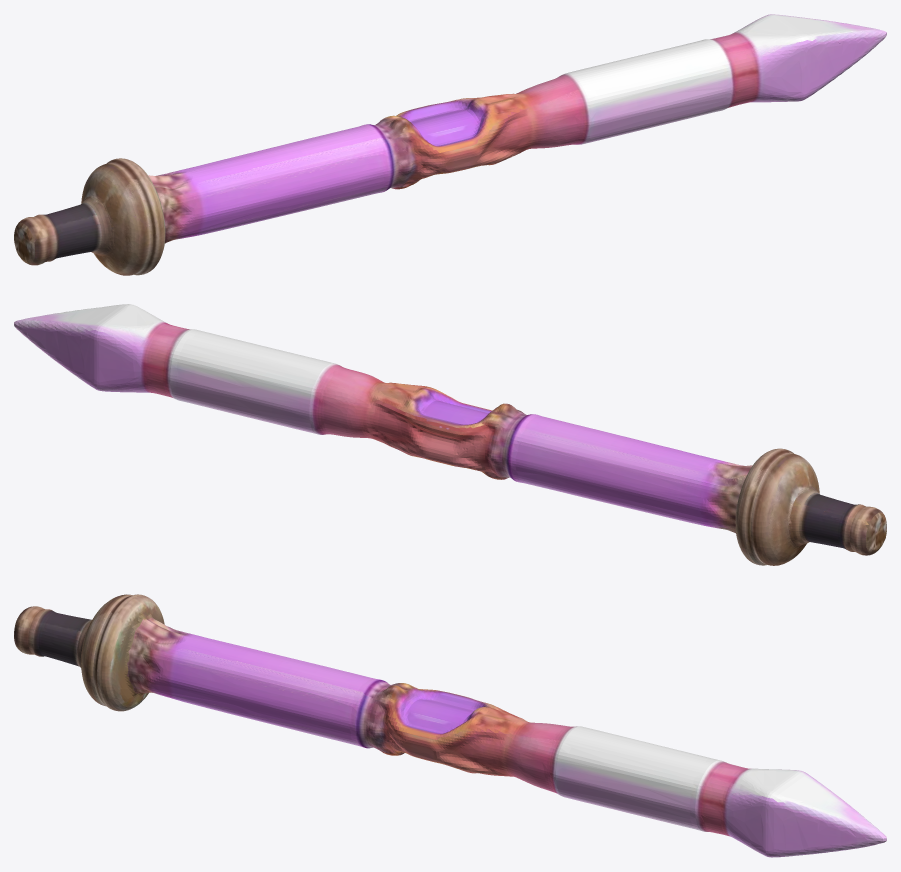
The model's file is cynthia_weapon.glb.
The picture shows the model from 3 angles, top to bottom: view 1: azimuth 30°, elevation 25°; view 2: azimuth 150°, elevation 25°; view 3: azimuth 330°, elevation 25°; orthographic projection.
Parts seen in each view (by area): view 1: tmpugbcc83p.ply; view 2: tmpugbcc83p.ply; view 3: tmpugbcc83p.ply.
Part boxes in pixels (x1,y1,x2,y2): tmpugbcc83p.ply: [14, 14, 886, 275]; tmpugbcc83p.ply: [14, 304, 886, 565]; tmpugbcc83p.ply: [14, 594, 886, 857].
Bounding box in the file's own units: 1.99 × 0.2372 × 0.2374.
1 material, 1 textured.
